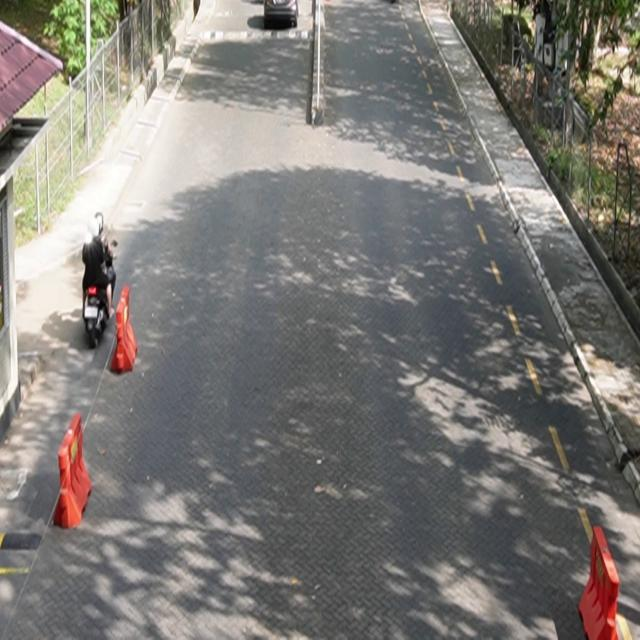car: (264, 1, 300, 29)
